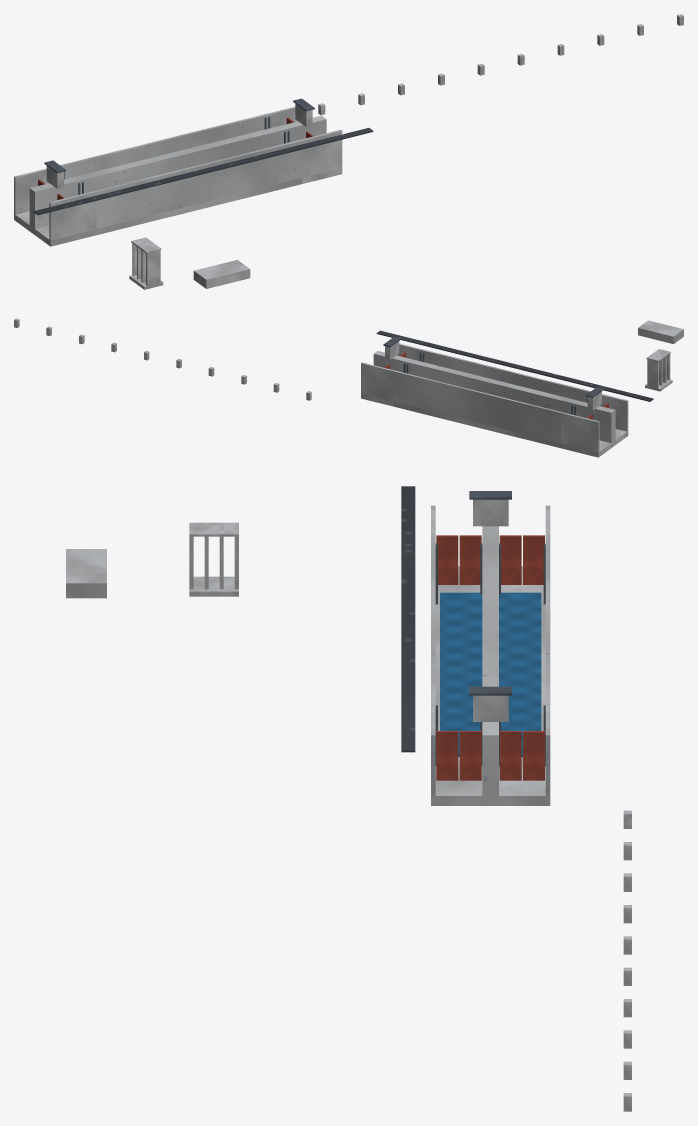
The model's file is madao-z3-lock.glb.
The picture shows the model from 3 angles, top to bottom: view 1: azimuth 30°, elevation 25°; view 2: azimuth 150°, elevation 25°; view 3: azimuth 270°, elevation 25°; orthographic projection. The views are drawn at different scales.
Visible parts, largest first — view 1: MAD_LOCK_wallR_chamber_01, MAD_LOCK_middike_01, MAD_LOCK_wallL_chamber_01, MAD_SITE_road_01, MAD_LOCK_wallR_head_up_01, MAD_LOCK_wallR_head_dn_01, MAD_LOCK_slab_chamber_01, MAD_SITE_admin_01, MAD_LOCK_wallL_head_up_01, MAD_LOCK_slab_head_up_01, MAD_SLUICE_pier_04, MAD_LOCK_wallL_head_dn_01; view 2: MAD_LOCK_wallL_chamber_01, MAD_LOCK_middike_01, MAD_LOCK_wallR_chamber_01, MAD_SITE_road_01, MAD_LOCK_wallL_head_up_01, MAD_LOCK_wallL_head_dn_01, MAD_LOCK_slab_chamber_01, MAD_SITE_admin_01, MAD_LOCK_wallR_head_up_01, MAD_LOCK_slab_head_up_01, MAD_SLUICE_pier_01, MAD_LOCK_wallR_head_dn_01; view 3: MAD_LOCK_water_chamber_01, MAD_SITE_road_01, MAD_LOCK_middike_01, MAD_LOCK_slab_head_dn_01, MAD_SITE_admin_01, MAD_LOCK_slab_chamber_01, MAD_GATES_miter_dn_a_02, MAD_GATES_miter_dn_b_01, MAD_GATES_miter_dn_b_02, MAD_GATES_miter_up_a_02, MAD_GATES_miter_dn_a_01, MAD_GATES_miter_up_b_02 (+5 smaller).
Part boxes in pixels (x1=…): MAD_LOCK_wallR_chamber_01: x1=95, y1=139, x2=302, y2=228; MAD_LOCK_middike_01: x1=29, y1=115, x2=326, y2=228; MAD_LOCK_wallL_chamber_01: x1=60, y1=114, x2=266, y2=179; MAD_SITE_road_01: x1=33, y1=128, x2=373, y2=215; MAD_LOCK_wallR_head_up_01: x1=49, y1=191, x2=96, y2=240; MAD_LOCK_wallR_head_dn_01: x1=301, y1=129, x2=342, y2=177; MAD_LOCK_slab_chamber_01: x1=96, y1=178, x2=302, y2=234; MAD_SITE_admin_01: x1=193, y1=260, x2=250, y2=288; MAD_LOCK_wallL_head_up_01: x1=14, y1=165, x2=60, y2=214; MAD_LOCK_slab_head_up_01: x1=14, y1=211, x2=96, y2=246; MAD_SLUICE_pier_04: x1=146, y1=248, x2=160, y2=288; MAD_LOCK_wallL_head_dn_01: x1=266, y1=106, x2=297, y2=128; MAD_LOCK_wallL_chamber_01: x1=393, y1=370, x2=561, y2=443; MAD_LOCK_middike_01: x1=373, y1=351, x2=615, y2=443; MAD_LOCK_wallR_chamber_01: x1=422, y1=349, x2=590, y2=402; MAD_SITE_road_01: x1=376, y1=330, x2=653, y2=401; MAD_LOCK_wallL_head_up_01: x1=561, y1=412, x2=599, y2=452; MAD_LOCK_wallL_head_dn_01: x1=361, y1=362, x2=394, y2=401; MAD_LOCK_slab_chamber_01: x1=393, y1=402, x2=560, y2=448; MAD_SITE_admin_01: x1=638, y1=320, x2=683, y2=343; MAD_LOCK_wallR_head_up_01: x1=600, y1=394, x2=628, y2=431; MAD_LOCK_slab_head_up_01: x1=561, y1=429, x2=628, y2=457; MAD_SLUICE_pier_01: x1=647, y1=357, x2=658, y2=390; MAD_LOCK_wallR_head_dn_01: x1=397, y1=343, x2=422, y2=361; MAD_LOCK_water_chamber_01: x1=440, y1=592, x2=541, y2=756; MAD_SITE_road_01: x1=401, y1=486, x2=415, y2=752; MAD_LOCK_middike_01: x1=482, y1=526, x2=498, y2=795; MAD_LOCK_slab_head_dn_01: x1=431, y1=764, x2=550, y2=805; MAD_SITE_admin_01: x1=66, y1=549, x2=106, y2=598; MAD_LOCK_slab_chamber_01: x1=435, y1=602, x2=545, y2=764; MAD_GATES_miter_dn_a_02: x1=459, y1=731, x2=481, y2=780; MAD_GATES_miter_dn_b_01: x1=499, y1=731, x2=521, y2=780; MAD_GATES_miter_dn_b_02: x1=436, y1=731, x2=458, y2=780; MAD_GATES_miter_up_a_02: x1=459, y1=535, x2=481, y2=584; MAD_GATES_miter_dn_a_01: x1=523, y1=731, x2=544, y2=780; MAD_GATES_miter_up_b_02: x1=436, y1=535, x2=458, y2=584.
Bounding box in the file's own units: 979 × 82.18 × 412.
Materials: 5 (5 with a texture image).
